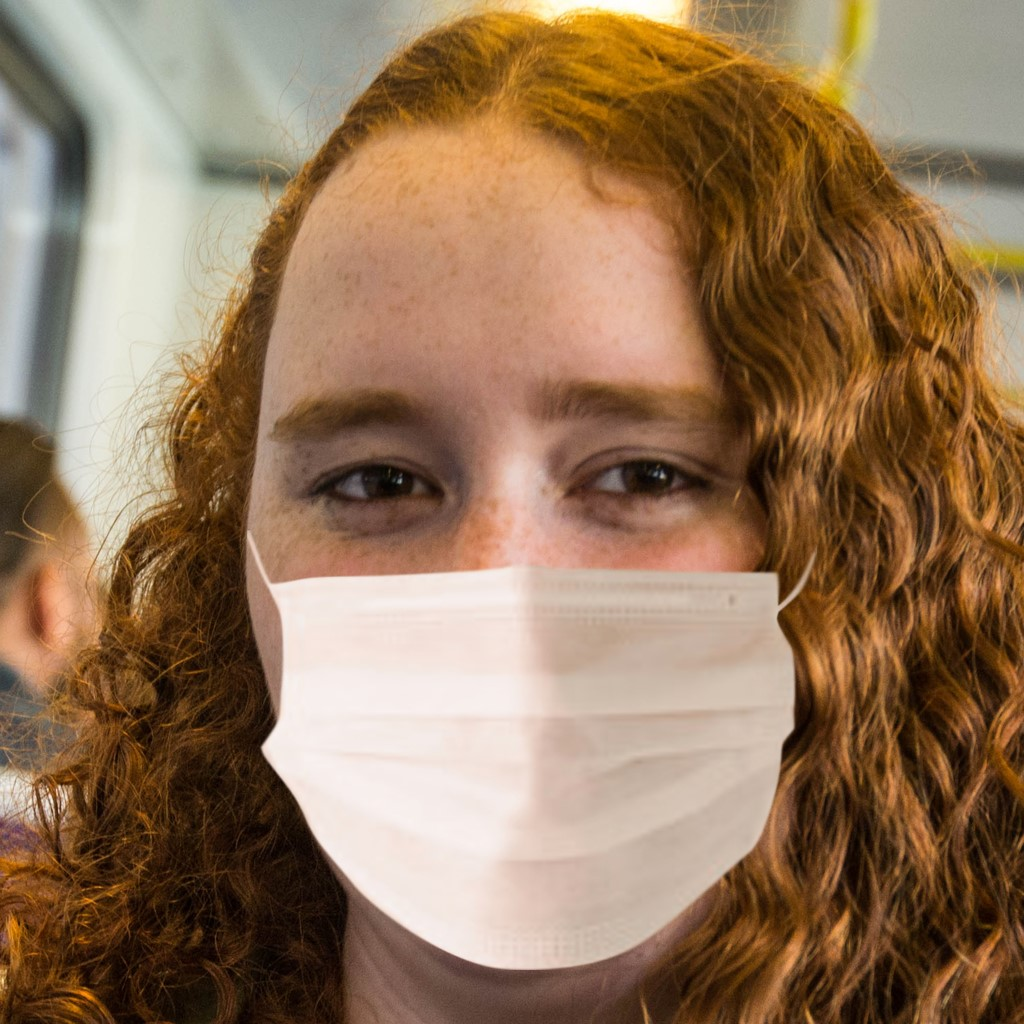con_mascara: (259, 111, 844, 977)
